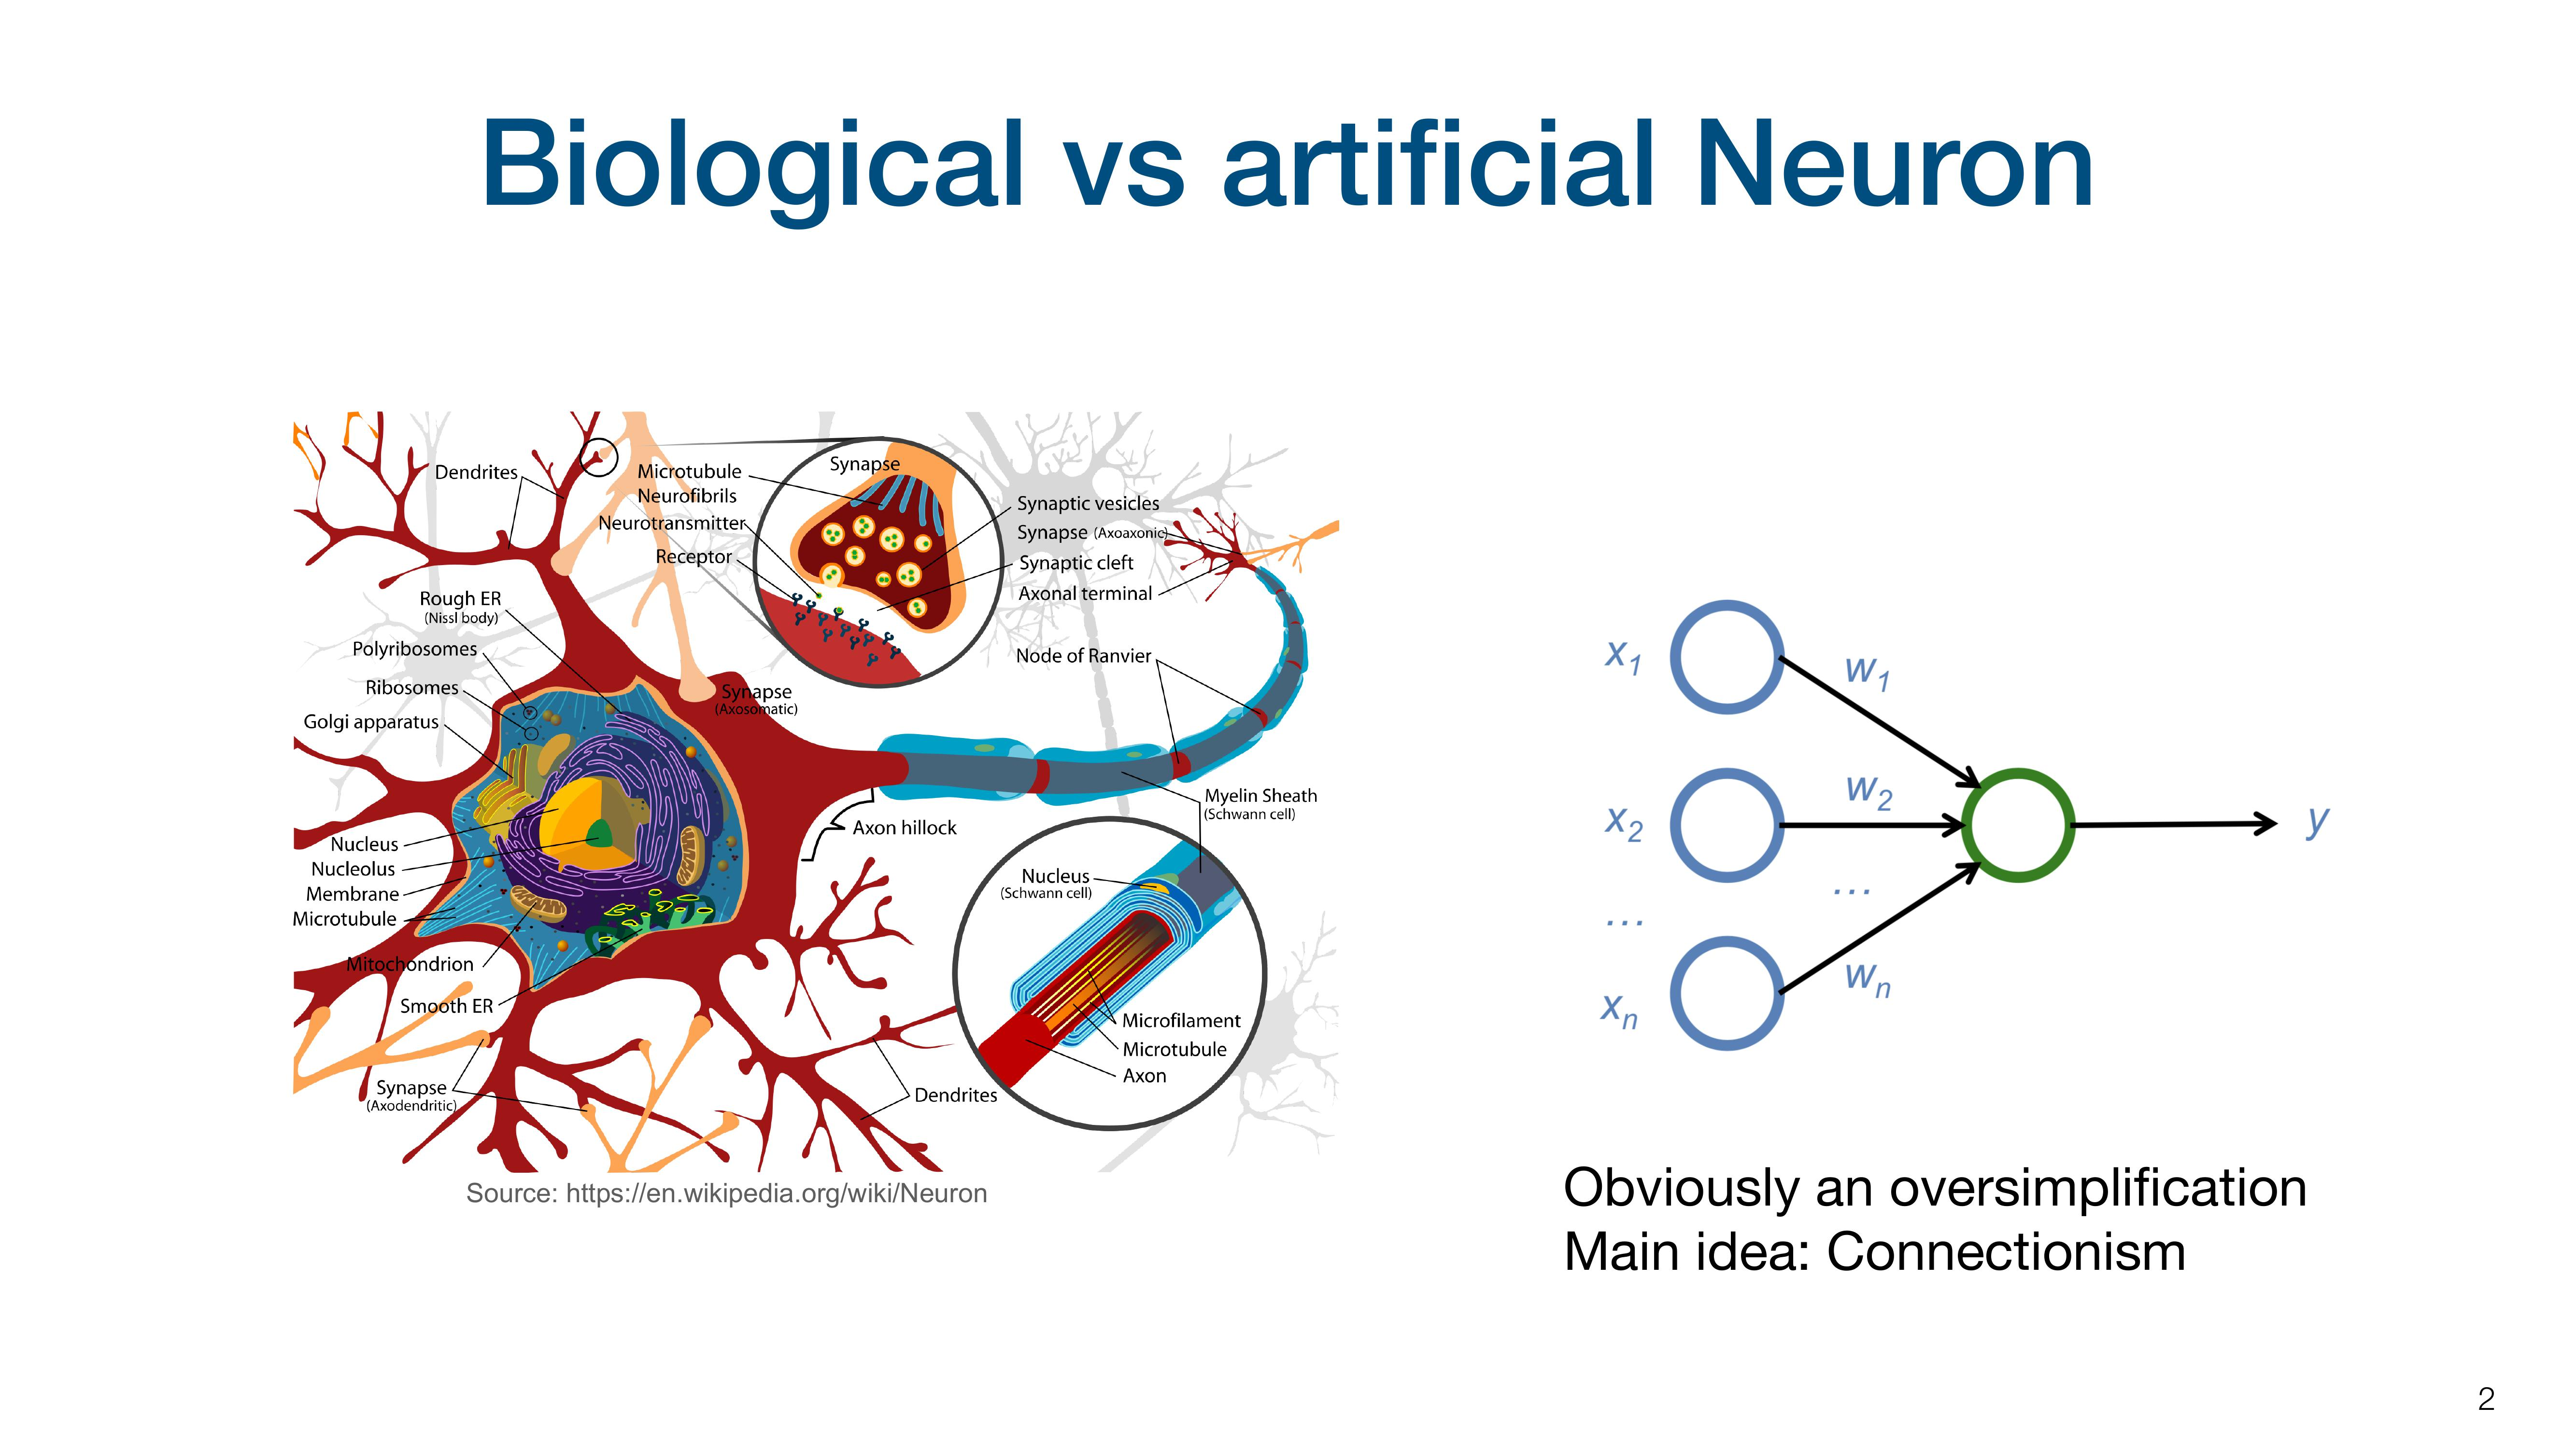Title: (469, 99, 2097, 235)
